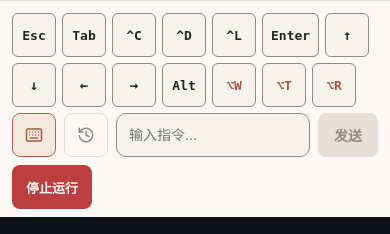
it: ComposerBar (Terminal Mode) › 点击切换按钮可折叠与展开 KeyTray
Expected: the element with test id "terminal-key-tray" is shown, [12, 9, 378, 113]
Click the button with test id "toggle-terminal-keys" at [34, 135], box [12, 113, 56, 157]
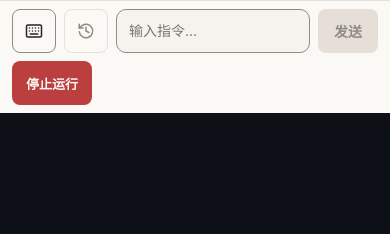
Click the button with test id "toggle-terminal-keys" at [34, 31], box [12, 9, 56, 53]
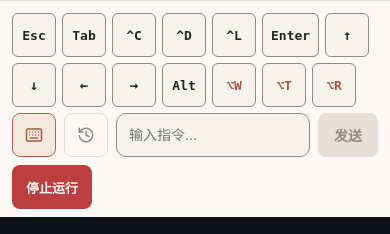
Expected: the element with test id "terminal-key-tray" is shown, [12, 9, 378, 113]
